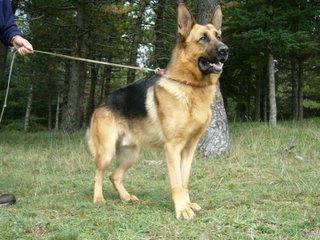German_shepherd: (74, 0, 234, 222)
